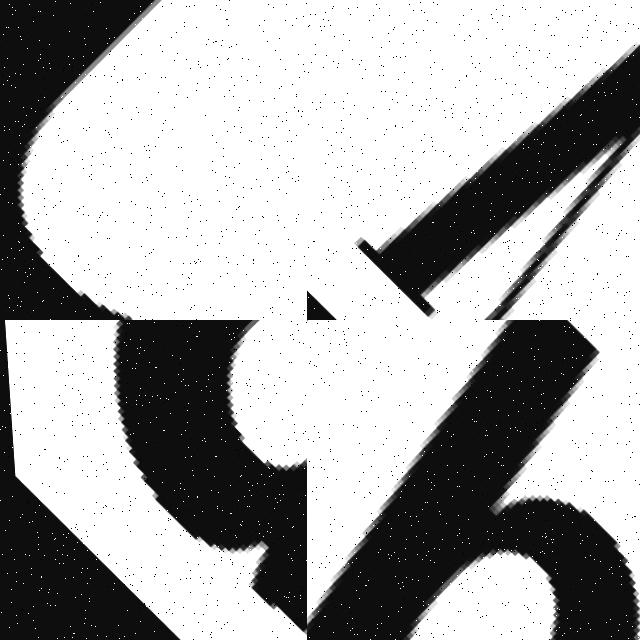G: (0, 320, 307, 640)
P: (307, 320, 634, 640)
R: (0, 0, 307, 320)
Y: (307, 0, 640, 320)
